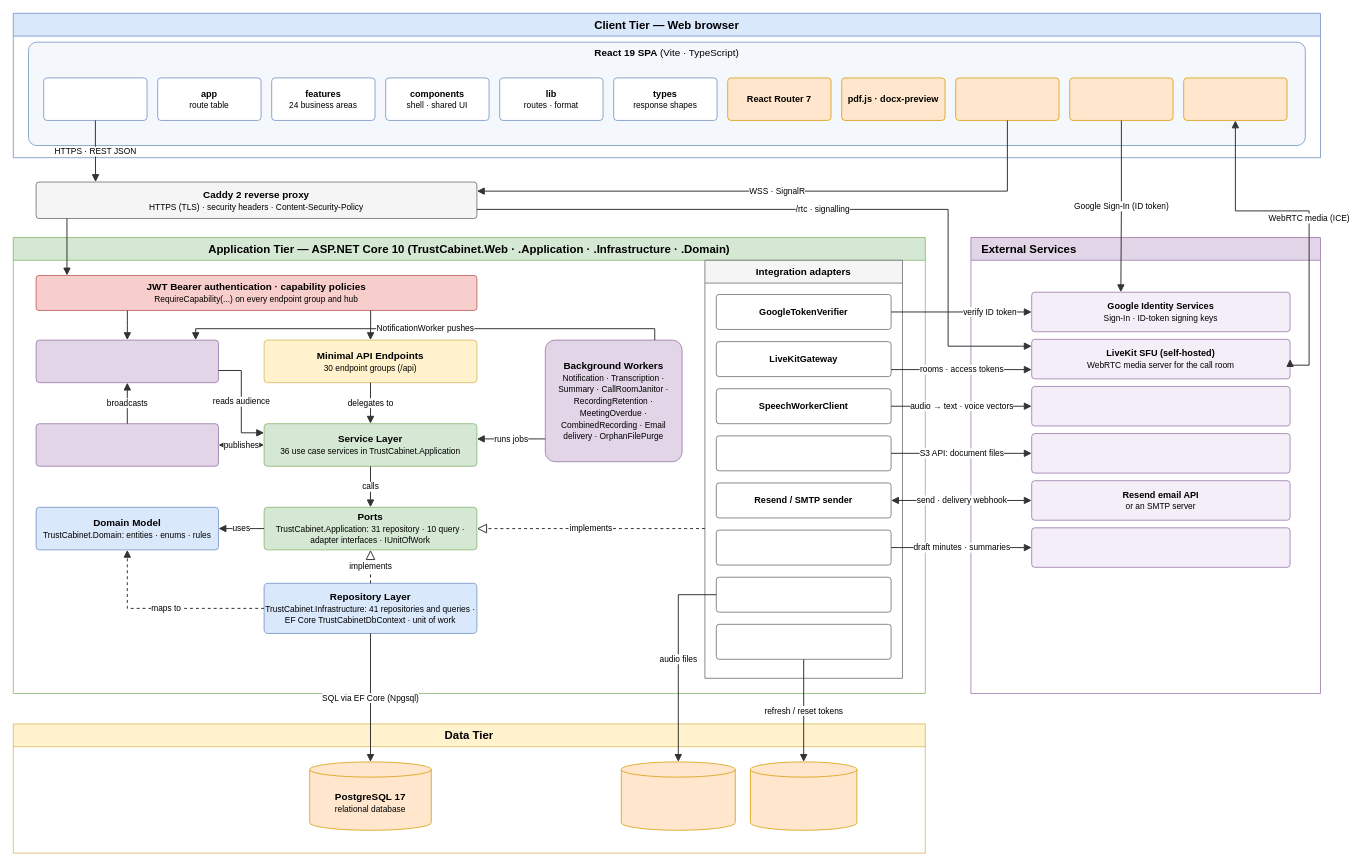
This 1363x866 diagram has some shape labels left out. Each missing label, with the centre of its shape:
@microsoft/signalr: (x=1007, y=98)
api client.ts · /api: (x=95, y=98)
Change Publishers one per business area → hubs: (x=126, y=444)
FileStorage (S3): (x=803, y=453)
Google Sign-In GSI script: (x=1121, y=98)
Language model in-house; an API only for Normal meetings: (x=1160, y=547)
LanguageModelProvider: (x=803, y=547)
livekit-client LiveKit components: (x=1235, y=98)
Recording files server disk volume: (x=678, y=795)
RecordingStorage: (x=803, y=594)
Redis 8 key-value store, TTL: (x=803, y=795)
Redis token stores: (x=803, y=641)
SeaweedFS S3 object storage · on the app server: (x=1160, y=453)
SignalR Hubs MeetingHub · NotificationHub (/hubs): (x=126, y=361)
Speech worker (in-house) Python · sherpa-onnx, CPU only: (x=1160, y=406)
